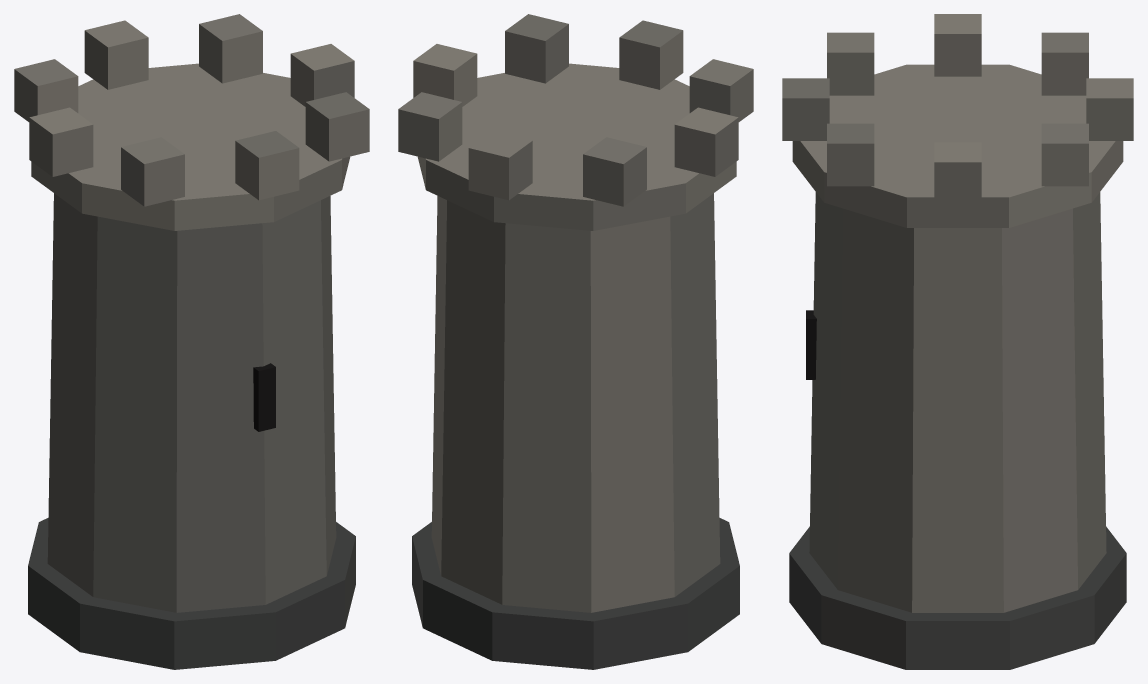
File: stone_tower.glb
3 renders of one model, left to right at view 1: azimuth 30°, elevation 25°; view 2: azimuth 150°, elevation 25°; view 3: azimuth 270°, elevation 25°, orthographic.
Parts seen in each view (by area): view 1: stone_tower; view 2: stone_tower; view 3: stone_tower.
Part boxes in pixels (x1,y1,x2,y2): stone_tower: [14, 14, 369, 669]; stone_tower: [398, 14, 753, 669]; stone_tower: [782, 14, 1133, 669].
Size of the model in its own units: 5.2 by 8.4 by 5.2.
Materials: 1 (1 with a texture image).
